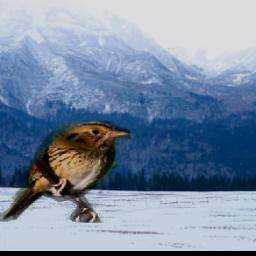Sparrow: (0, 121, 130, 223)
